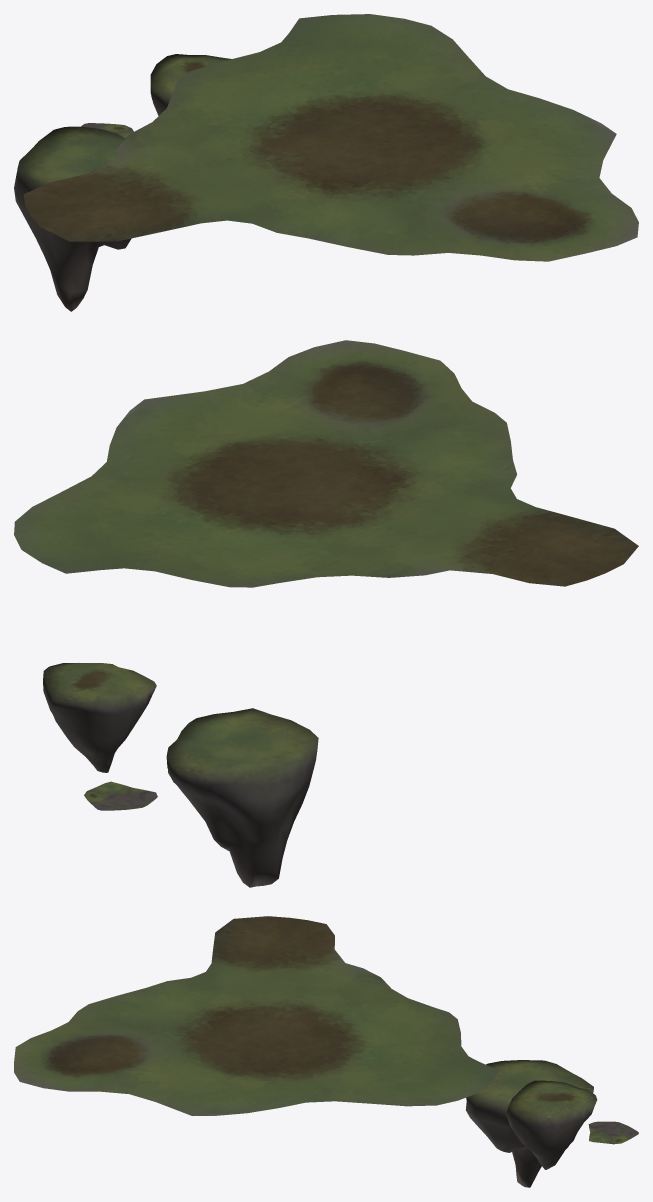
The model's file is GrassPlanes+Water.fbx.
3 views of the same model, one above another, from view 1: azimuth 30°, elevation 25°; view 2: azimuth 150°, elevation 25°; view 3: azimuth 270°, elevation 25° (orthographic). The views are drawn at different scales.
Parts seen in each view (by area): view 1: MainIsland_WaterPlane, Floating_Island_Big_Low, Floating_Island_Mid_Low; view 2: MainIsland_WaterPlane, Floating_Island_Big_Low, Floating_Island_Mid_Low, Floating_Island_Small_Grassplane; view 3: MainIsland_WaterPlane, Floating_Island_Mid_Low, Floating_Island_Big_Low, Floating_Island_Small_Grassplane.
Part boxes in pixels (box(x1,y1,x2,y2)): MainIsland_WaterPlane: box(23, 14, 638, 261); Floating_Island_Big_Low: box(14, 126, 131, 311); Floating_Island_Mid_Low: box(150, 54, 231, 115); MainIsland_WaterPlane: box(14, 340, 638, 587); Floating_Island_Big_Low: box(166, 708, 318, 887); Floating_Island_Mid_Low: box(43, 663, 156, 772); Floating_Island_Small_Grassplane: box(84, 781, 157, 810); MainIsland_WaterPlane: box(14, 916, 499, 1115); Floating_Island_Mid_Low: box(506, 1080, 597, 1169); Floating_Island_Big_Low: box(466, 1060, 593, 1187); Floating_Island_Small_Grassplane: box(588, 1121, 638, 1144).
Size of the model in its own units: 12554 by 5690 by 16577.
